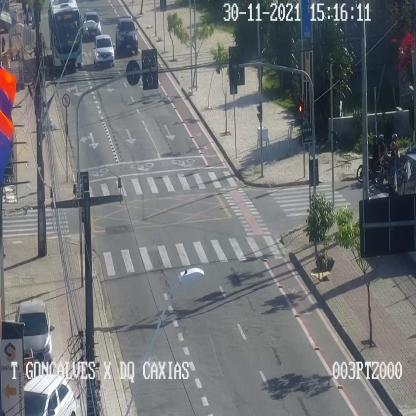bus: (50, 1, 84, 76)
car: (16, 301, 52, 372), (23, 374, 76, 415), (115, 17, 138, 54), (93, 34, 114, 65), (82, 12, 101, 38)
motorbike: (374, 133, 405, 184), (374, 141, 402, 188), (357, 134, 383, 182)
person: (257, 58, 263, 92), (26, 6, 32, 28), (1, 36, 5, 64), (22, 6, 26, 28)
